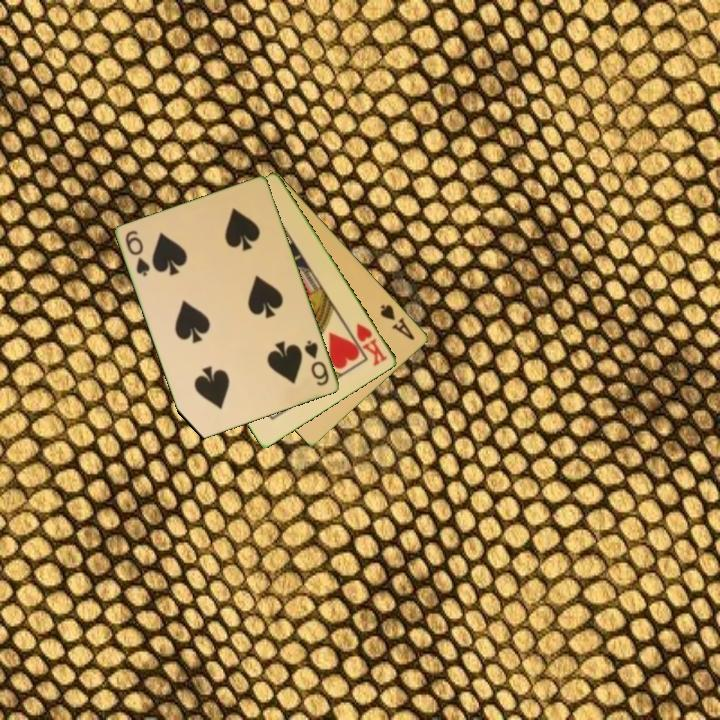6s: (122, 227, 153, 280), (301, 337, 332, 389)
As: (377, 301, 418, 343)
Kh: (353, 320, 391, 369)
